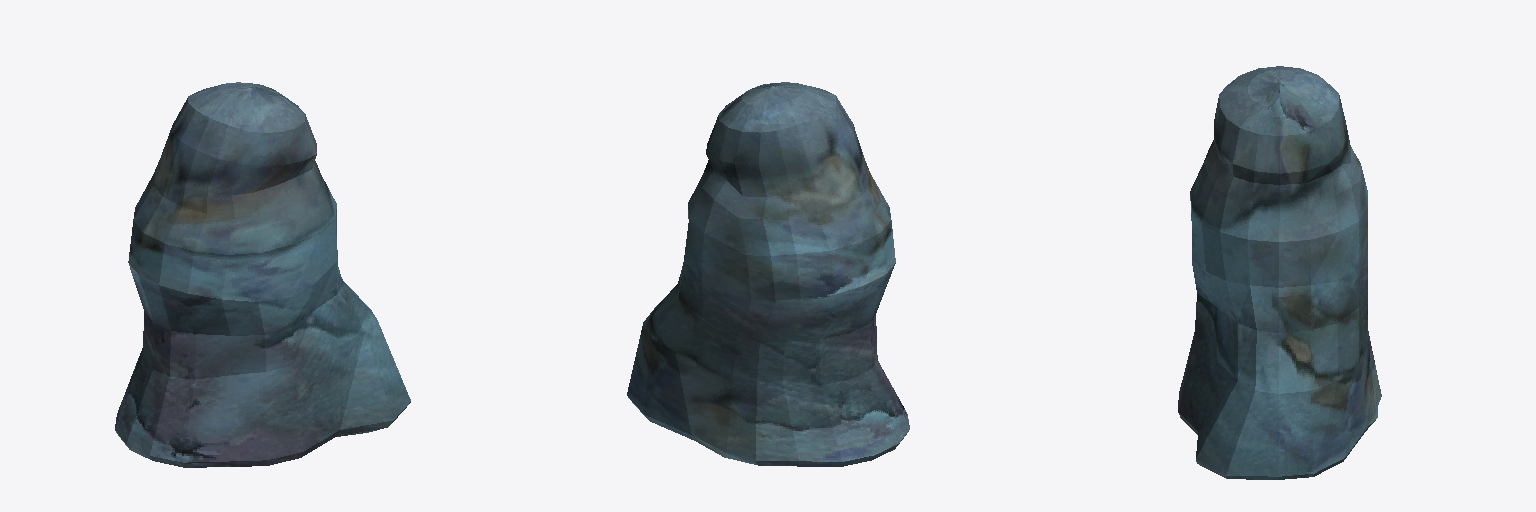
The picture shows the model from 3 angles: view 1: azimuth 30°, elevation 25°; view 2: azimuth 150°, elevation 25°; view 3: azimuth 270°, elevation 25°; orthographic projection.
Parts seen in each view (by area): view 1: submesh_0; view 2: submesh_0; view 3: submesh_0.
Boxes of the visible parts, box(x1,y1,x2,y2) form: submesh_0: box(115, 82, 410, 467); submesh_0: box(627, 82, 909, 466); submesh_0: box(1178, 66, 1381, 479).
Bounding box in the file's own units: 1.61 × 2.02 × 1.09.
Materials: 1 (1 with a texture image).